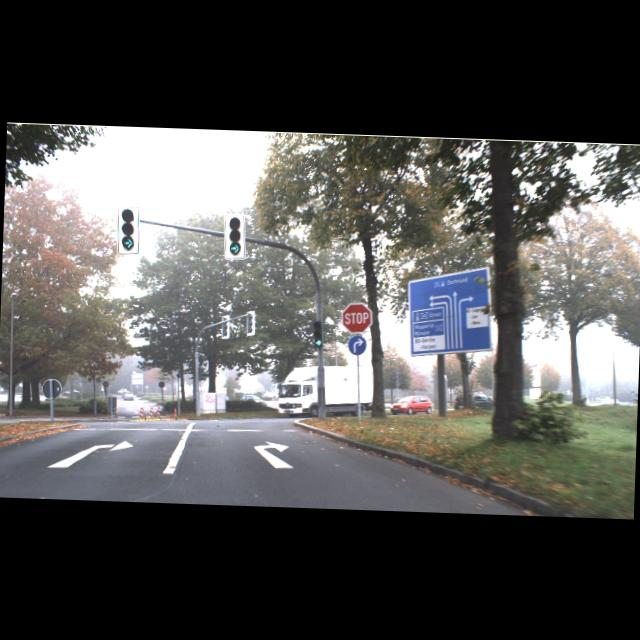mandatory: (347, 334, 367, 355)
other: (341, 302, 372, 333)
